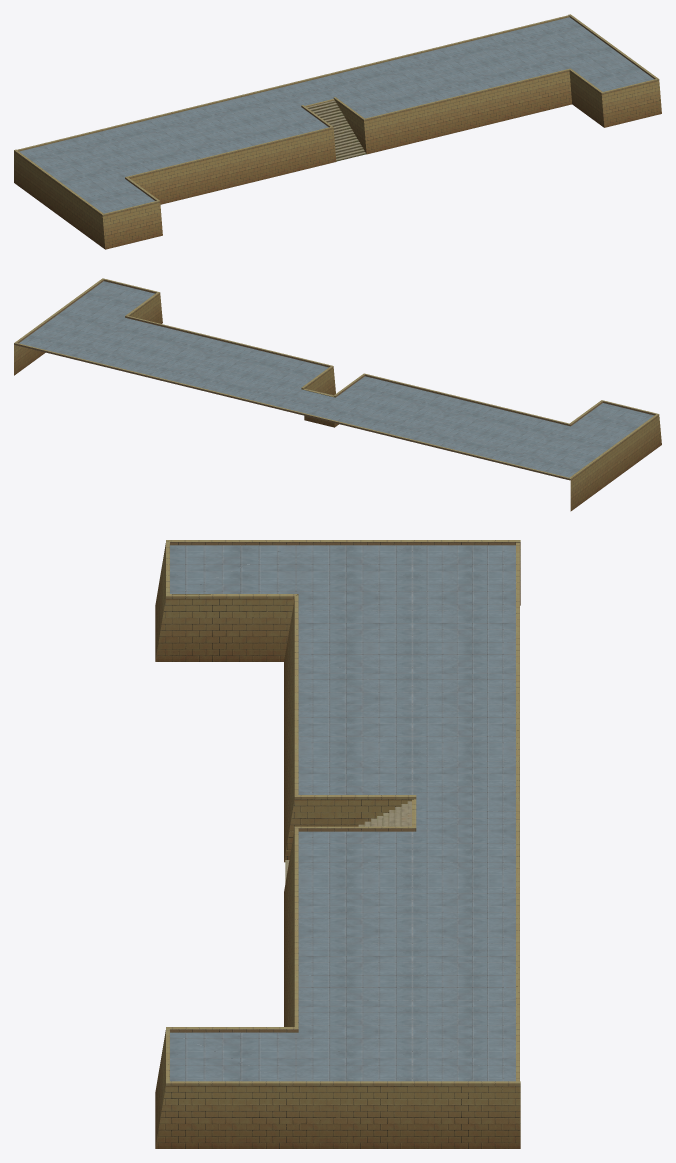
The model's file is Bleach_LingYuan_GaoTai007_cpoff.FBX.
The picture shows the model from 3 angles, top to bottom: view 1: azimuth 30°, elevation 25°; view 2: azimuth 150°, elevation 25°; view 3: azimuth 270°, elevation 25°; orthographic projection. The views are drawn at different scales.
Parts seen in each view (by area): view 1: Bleach_LingYuan_GaoTai007; view 2: Bleach_LingYuan_GaoTai007; view 3: Bleach_LingYuan_GaoTai007.
Boxes of the visible parts, bbox=[...] form: Bleach_LingYuan_GaoTai007: bbox=[14, 14, 661, 249]; Bleach_LingYuan_GaoTai007: bbox=[14, 278, 661, 511]; Bleach_LingYuan_GaoTai007: bbox=[155, 540, 520, 1148].
Bounding box in the file's own units: 94.3 × 5.31 × 26.8.
